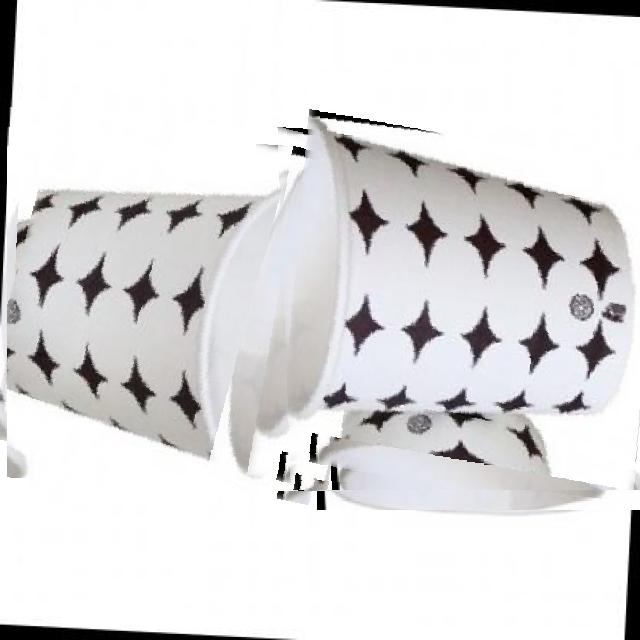non-biodegradable: (276, 87, 640, 490), (7, 97, 367, 491)
